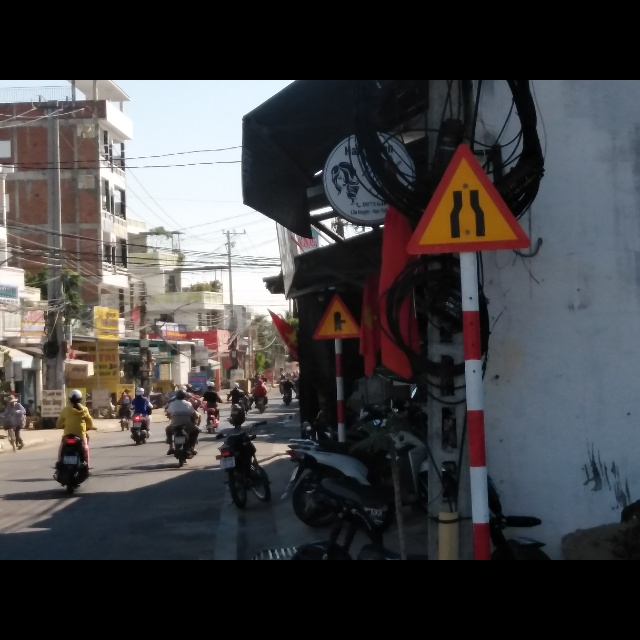Giao nhau với đường không ưu tiên: (312, 290, 363, 338)
Đường bị hẹp cả hai bên: (402, 141, 532, 255)
